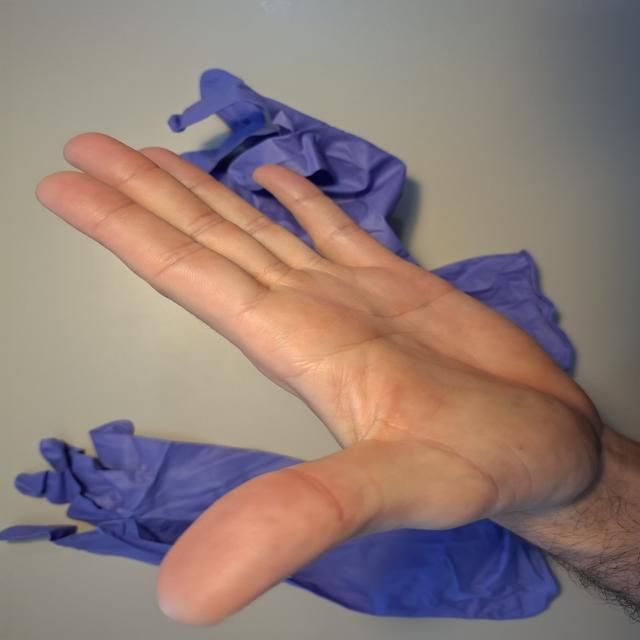glove_off: (32, 130, 614, 630)
